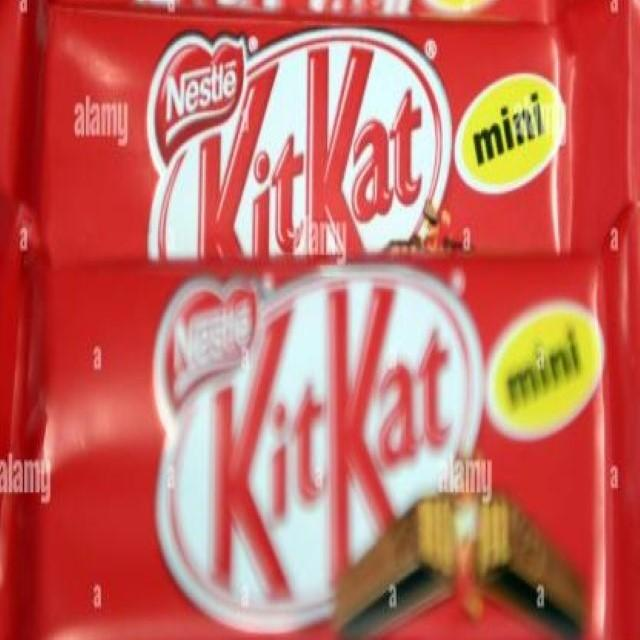kitkat_chocolate: (10, 273, 640, 640), (0, 0, 631, 265)
